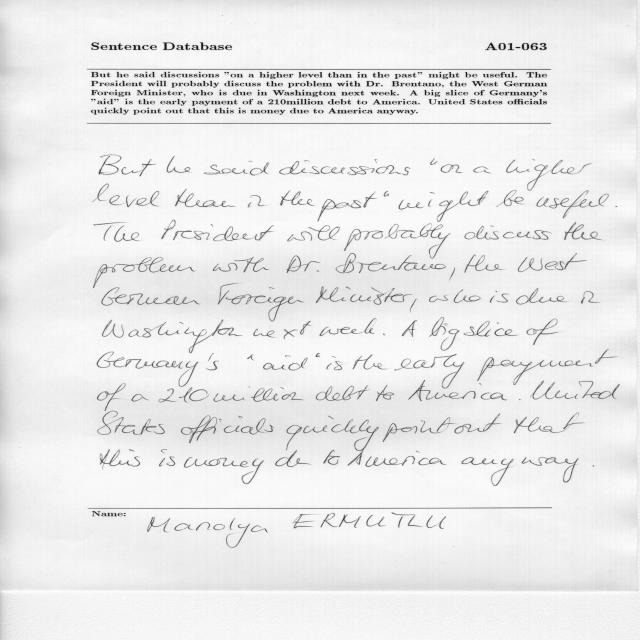word: (477, 349, 618, 385), (102, 320, 242, 354), (286, 416, 379, 466), (97, 352, 219, 387), (462, 457, 579, 486), (218, 284, 304, 322), (94, 257, 196, 288), (344, 223, 451, 251), (399, 191, 489, 222), (506, 159, 591, 191), (336, 249, 446, 273), (181, 416, 274, 444), (395, 354, 465, 388), (161, 220, 274, 241), (159, 387, 304, 402), (184, 457, 264, 484), (279, 159, 410, 175), (408, 380, 507, 401), (536, 191, 609, 219), (102, 287, 200, 306), (383, 417, 457, 442), (316, 286, 412, 305), (318, 192, 377, 222), (530, 381, 620, 400), (98, 411, 165, 435), (94, 184, 160, 207), (514, 413, 584, 434), (464, 225, 552, 240), (366, 451, 447, 467), (518, 253, 586, 272), (99, 155, 156, 176), (175, 189, 235, 207), (253, 321, 311, 339), (320, 318, 377, 336), (429, 318, 459, 351), (454, 414, 501, 434), (204, 161, 269, 175), (94, 222, 139, 242), (526, 318, 559, 345), (464, 321, 519, 337), (516, 288, 567, 305), (287, 226, 340, 242), (316, 385, 369, 401), (213, 257, 269, 272), (100, 450, 140, 470), (98, 383, 126, 411), (429, 289, 481, 303), (465, 255, 504, 273), (564, 222, 602, 240), (263, 356, 308, 371), (275, 450, 311, 467), (287, 256, 321, 273), (280, 190, 315, 206), (353, 355, 387, 370), (497, 190, 525, 207), (167, 156, 191, 173), (376, 385, 394, 401), (159, 450, 175, 467), (402, 320, 417, 337), (323, 450, 340, 465), (581, 291, 600, 304), (327, 356, 343, 370), (490, 291, 508, 303), (248, 195, 264, 208), (441, 164, 463, 173), (474, 167, 492, 174), (132, 394, 149, 401), (410, 299, 417, 312), (450, 267, 455, 280), (430, 158, 438, 165), (247, 355, 254, 361), (384, 191, 389, 196), (315, 353, 320, 357), (593, 465, 595, 467), (615, 206, 617, 207), (383, 334, 385, 335), (519, 399, 521, 400)
